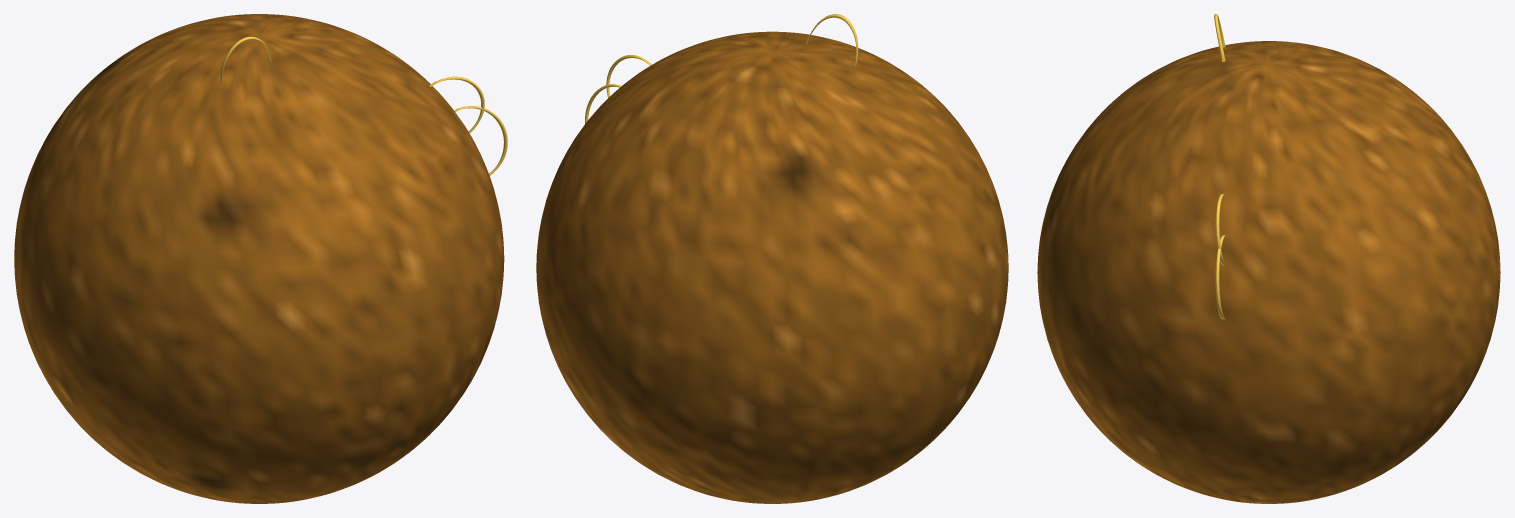
File: Star_07.fbx
3 renders of one model, left to right at view 1: azimuth 30°, elevation 25°; view 2: azimuth 150°, elevation 25°; view 3: azimuth 270°, elevation 25°, orthographic. The views are drawn at different scales.
Visible parts, largest first — view 1: Star_07; view 2: Star_07; view 3: Star_07.
Boxes of the visible parts, bbox=[...] form: Star_07: bbox=[14, 14, 507, 503]; Star_07: bbox=[536, 14, 1008, 503]; Star_07: bbox=[1037, 14, 1500, 503].
Size of the model in its own units: 204 by 213 by 200.
